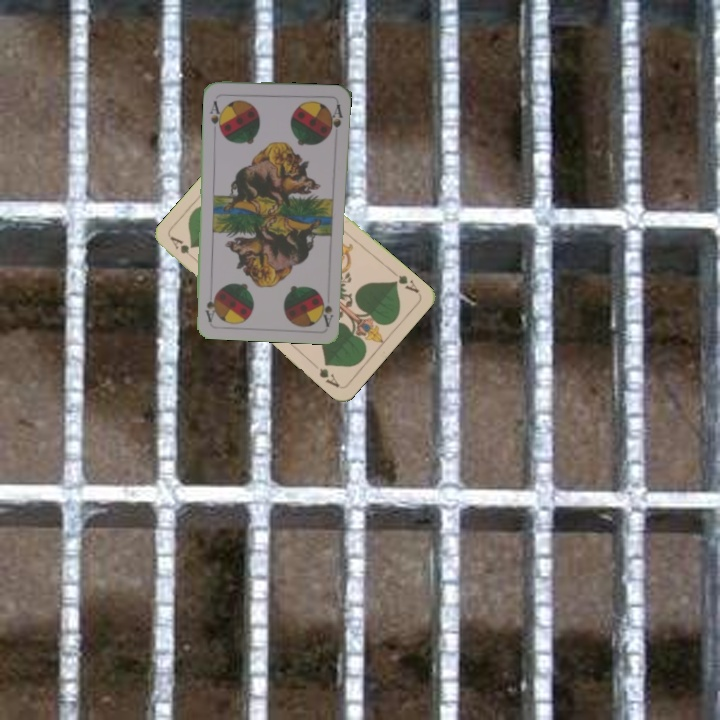GA: (166, 233, 200, 264), (387, 266, 422, 296)
SA: (206, 97, 225, 135), (317, 291, 336, 328)
